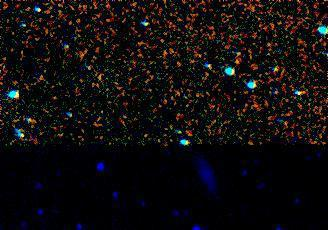star: (221, 46, 251, 76)
